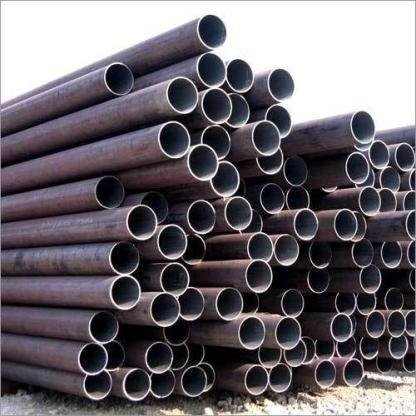pipe: (158, 121, 190, 159), (187, 145, 219, 181), (126, 204, 158, 240), (166, 78, 198, 113), (202, 88, 233, 124), (210, 160, 240, 196), (109, 241, 140, 275), (201, 125, 231, 159), (187, 200, 217, 234), (110, 275, 140, 309), (197, 14, 227, 48), (150, 293, 180, 327), (104, 62, 134, 96), (252, 121, 281, 156), (197, 53, 226, 88), (78, 344, 109, 376), (96, 176, 126, 209), (160, 263, 190, 296), (89, 311, 119, 344), (122, 368, 152, 401), (224, 196, 252, 230), (158, 225, 186, 259), (245, 259, 273, 293), (238, 316, 266, 350), (226, 58, 254, 92), (264, 105, 292, 138), (268, 68, 295, 102), (350, 109, 376, 144), (215, 288, 243, 320), (145, 342, 173, 374), (178, 287, 205, 320), (140, 192, 168, 223), (84, 370, 112, 400), (273, 234, 299, 266), (276, 317, 302, 349), (181, 366, 207, 398), (293, 208, 318, 241), (345, 152, 370, 184), (228, 93, 250, 128), (244, 364, 268, 396), (247, 233, 273, 262), (150, 370, 176, 399), (260, 183, 284, 214), (334, 209, 358, 240), (256, 148, 284, 174), (164, 318, 190, 346), (284, 156, 308, 186), (102, 340, 125, 371), (283, 339, 308, 367), (268, 363, 292, 392), (330, 313, 353, 342), (394, 142, 416, 172), (352, 238, 374, 268), (360, 264, 382, 294), (359, 187, 381, 216), (281, 289, 303, 318), (309, 242, 332, 269), (315, 360, 337, 388), (369, 140, 390, 169), (307, 269, 330, 294), (343, 359, 363, 387), (286, 186, 310, 209), (382, 242, 402, 269), (366, 311, 386, 338), (387, 310, 406, 338), (334, 292, 356, 316), (258, 346, 283, 367), (170, 343, 189, 370), (380, 167, 400, 192), (360, 335, 380, 360), (384, 288, 404, 312), (378, 188, 396, 214), (352, 211, 367, 242), (336, 336, 357, 358), (388, 336, 408, 359), (356, 292, 376, 314), (315, 340, 336, 360), (302, 336, 316, 364), (405, 209, 415, 240)
